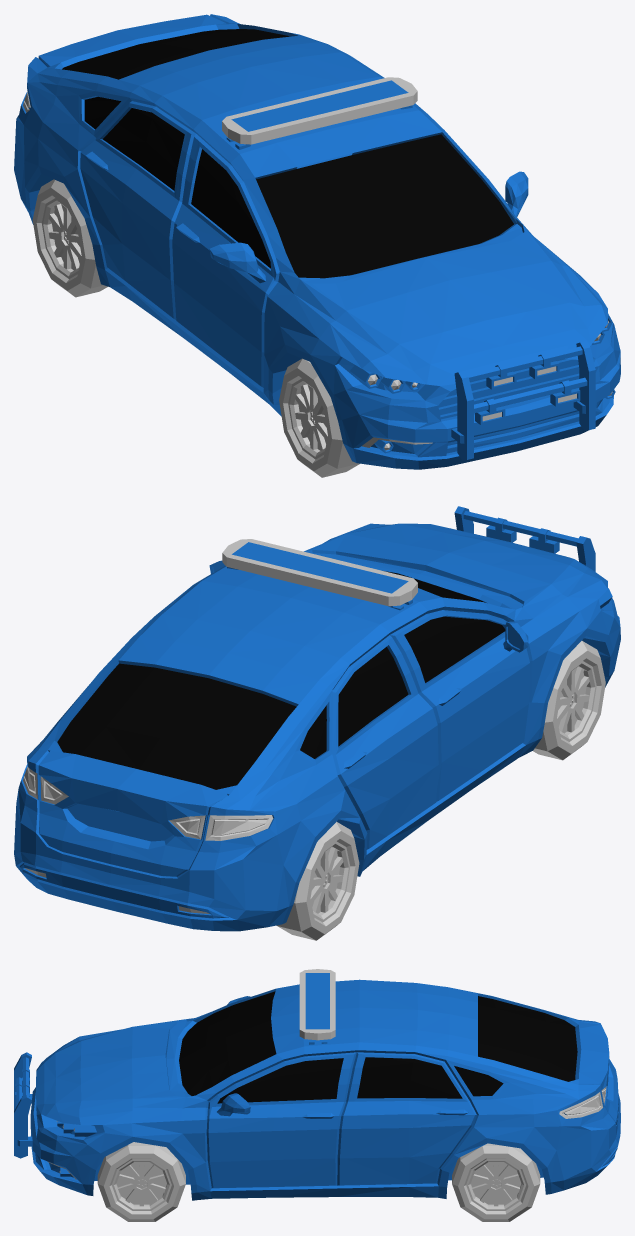
Rendered from SM_security.fbx.
3 renders of one model, top to bottom at view 1: azimuth 30°, elevation 25°; view 2: azimuth 150°, elevation 25°; view 3: azimuth 270°, elevation 25°, orthographic. The views are drawn at different scales.
Visible parts, largest first — view 1: Symmetry_20, Symmetry_2_5, Symmetry_2_5_2; view 2: Symmetry_20, Symmetry_2_5_2, Symmetry_2_5; view 3: Symmetry_20, Symmetry_2_5_2_2, Symmetry_2_5_2.
Boxes of the visible parts, <box> form: Symmetry_20: <box>14,14,620,469</box>; Symmetry_2_5: <box>279,358,359,477</box>; Symmetry_2_5_2: <box>32,179,107,297</box>; Symmetry_20: <box>14,506,620,931</box>; Symmetry_2_5_2: <box>276,821,359,940</box>; Symmetry_2_5: <box>533,641,605,760</box>; Symmetry_20: <box>14,969,620,1200</box>; Symmetry_2_5_2_2: <box>97,1142,185,1221</box>; Symmetry_2_5_2: <box>452,1143,540,1221</box>.
Size of the model in its own units: 1937 by 1433 by 4501.
